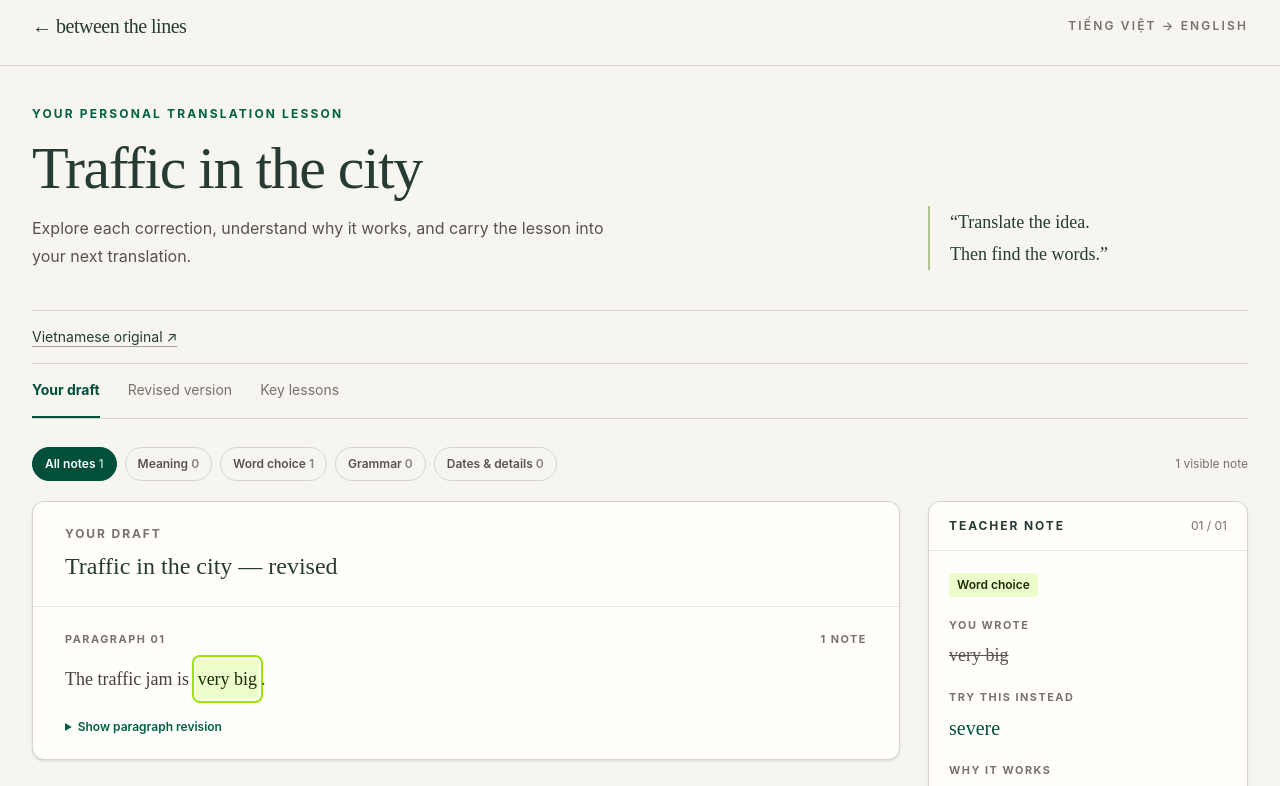
Test case: lesson tabs expose the revised copy action and key lessons
Click the tab "Revised version". click: x=180, y=391
box: [128, 364, 232, 418]
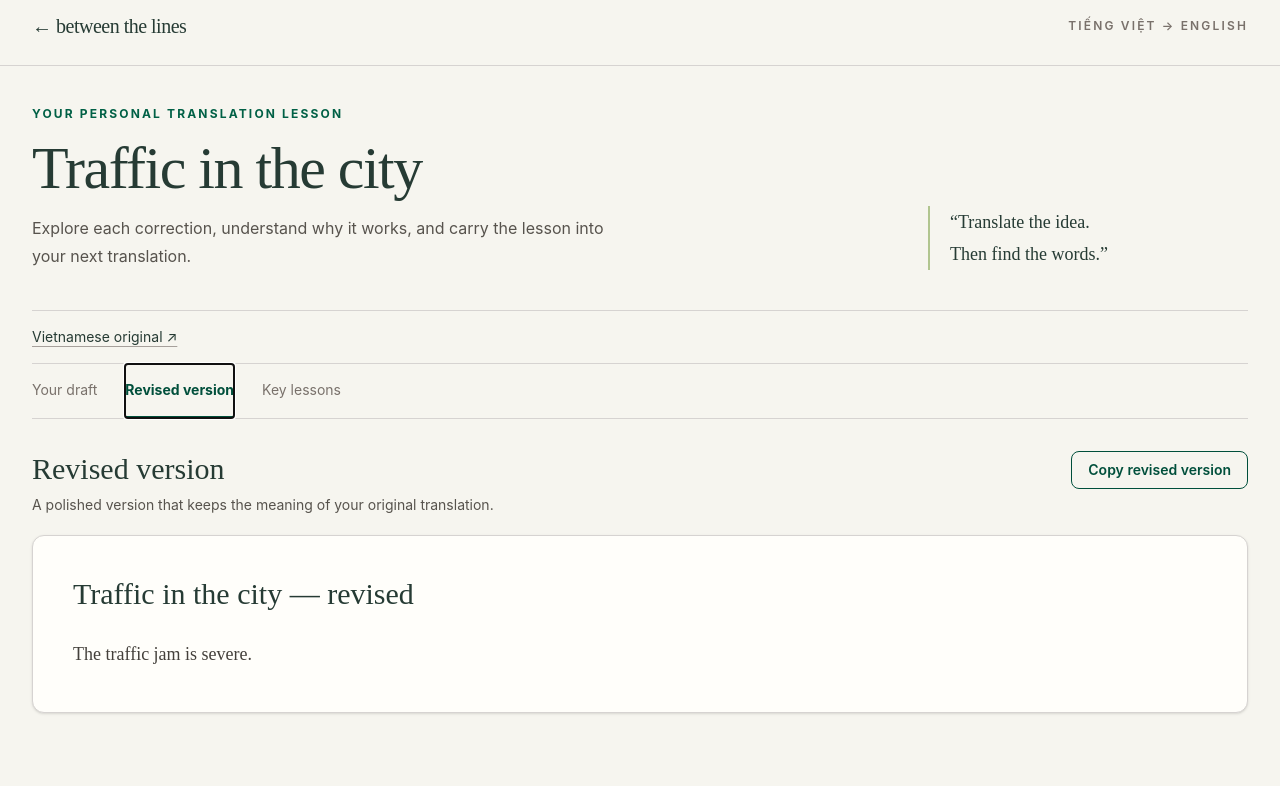
Expected: the heading "Traffic in the city — revised" is shown, [73, 577, 414, 610]
Expected: the text "The traffic jam is severe." is shown, [73, 644, 252, 664]
Click the button "Copy revised version". click: x=1160, y=470
box: [1071, 451, 1248, 489]
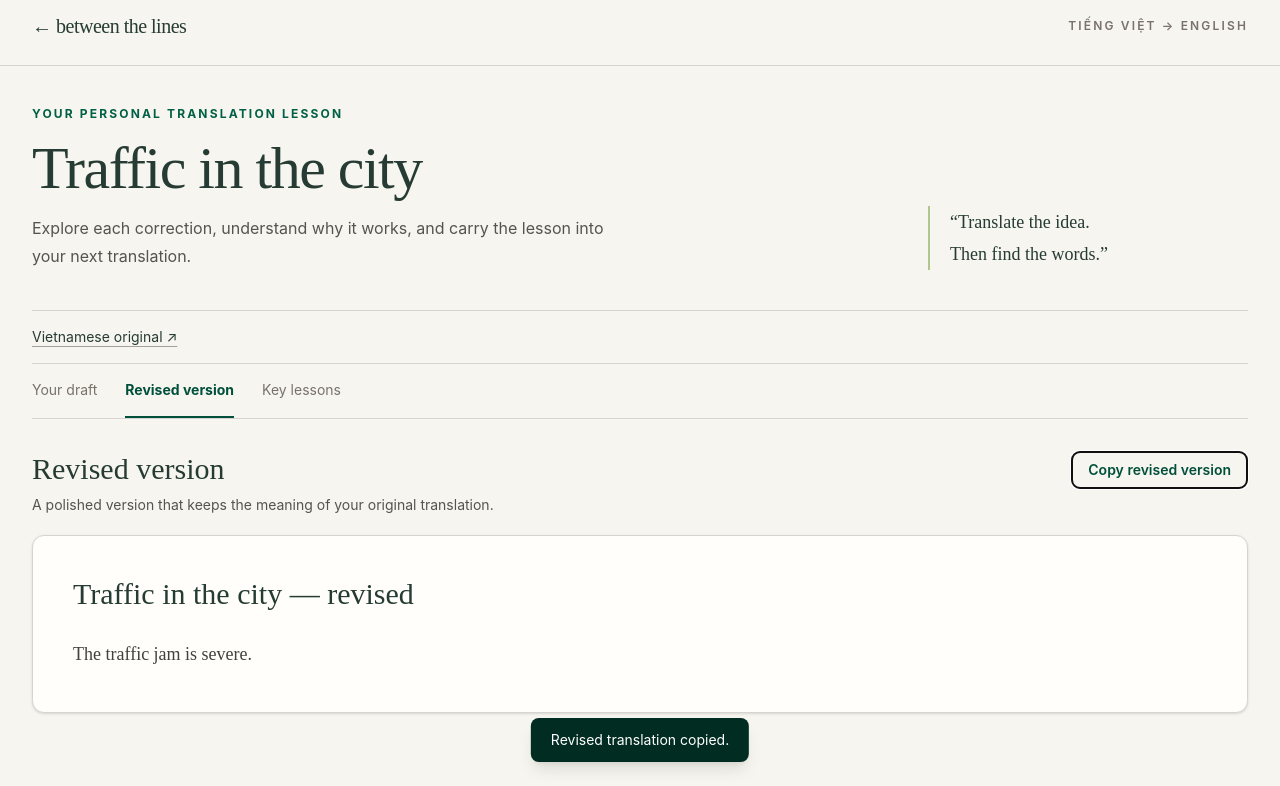
Expected: the message reads "Revised translation copied.", [551, 731, 729, 748]
Click the tab "Key lessons". click: x=301, y=391
box: [262, 364, 341, 418]
(page scrolled)
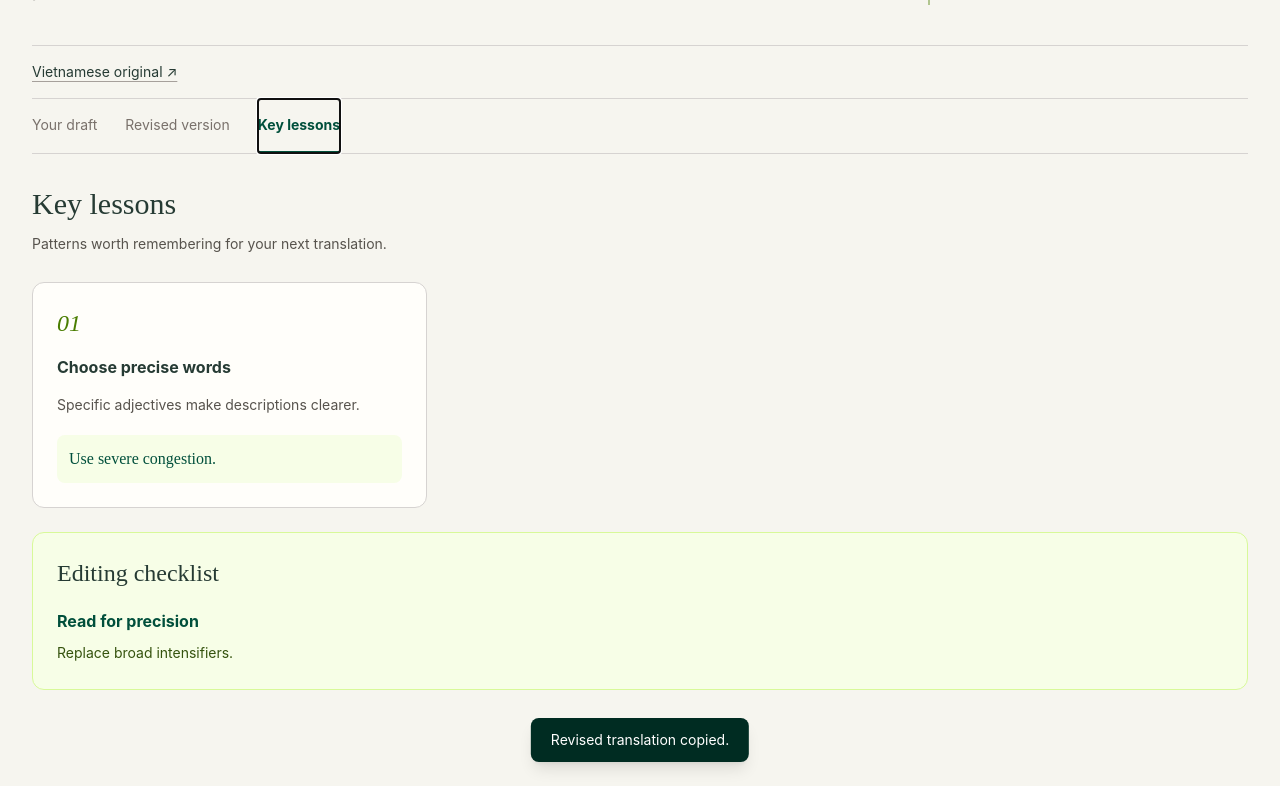
Expected: the heading "Choose precise words" is shown, [57, 357, 231, 377]
Expected: the text "Replace broad intensifiers." is shown, [57, 644, 233, 661]
